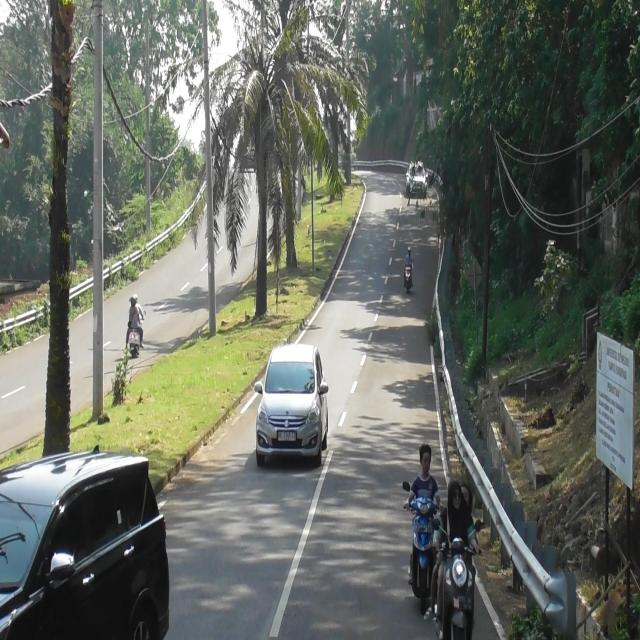motorcycle: (431, 518, 483, 640), (403, 480, 441, 609), (402, 259, 415, 291), (129, 327, 142, 359)
person: (436, 482, 480, 557), (404, 444, 446, 508), (457, 484, 474, 520), (128, 296, 140, 330), (134, 294, 145, 325), (402, 244, 416, 267)
rider_region: (434, 476, 485, 640), (402, 440, 437, 613), (123, 291, 146, 356), (400, 243, 416, 291)
